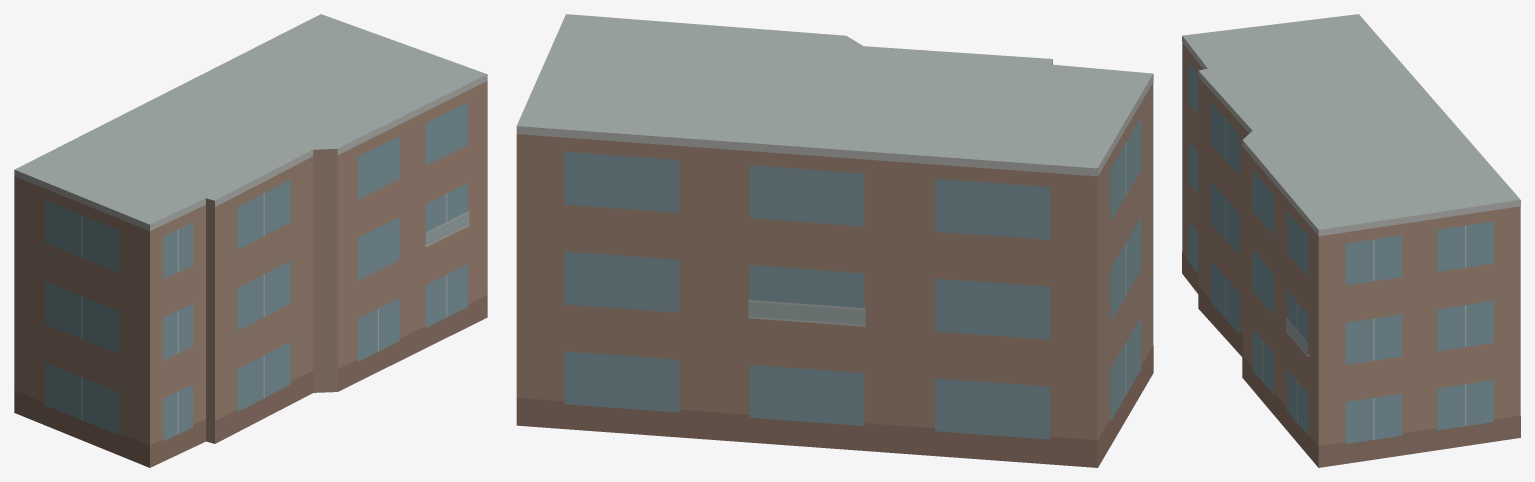
File: survey-upis-32733942.glb
The picture shows the model from 3 angles, left to right: view 1: azimuth 30°, elevation 25°; view 2: azimuth 150°, elevation 25°; view 3: azimuth 270°, elevation 25°; orthographic projection. The views are drawn at different scales.
Visible parts, largest first — view 1: survey-upis-32733942.tmp; view 2: survey-upis-32733942.tmp; view 3: survey-upis-32733942.tmp.
Boxes of the visible parts, box(x1,y1,x2,y2) form: survey-upis-32733942.tmp: box(14, 14, 487, 467); survey-upis-32733942.tmp: box(516, 14, 1153, 467); survey-upis-32733942.tmp: box(1182, 14, 1520, 467).
Bounding box in the file's own units: 17.83 × 9.15 × 11.82.
